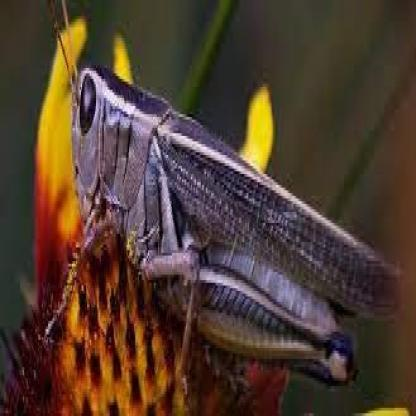grasshopper: (46, 0, 407, 400)
